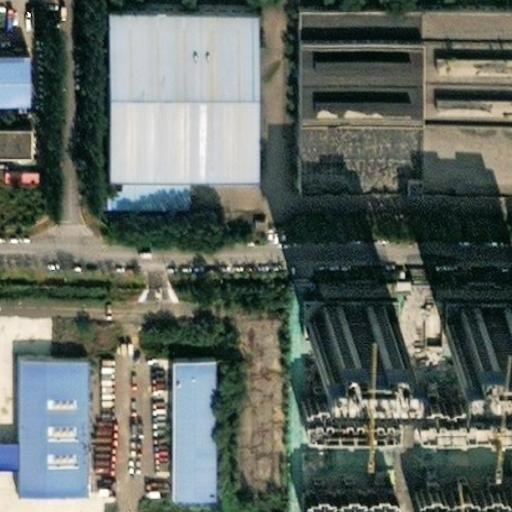building: (282, 109, 512, 178), (282, 27, 404, 109), (14, 356, 83, 496), (404, 28, 512, 109), (168, 360, 210, 498), (407, 466, 512, 505), (407, 379, 512, 418), (291, 300, 378, 337), (94, 159, 174, 198), (432, 303, 512, 337), (292, 486, 386, 505), (292, 397, 386, 416), (0, 45, 15, 95), (0, 158, 28, 172)
